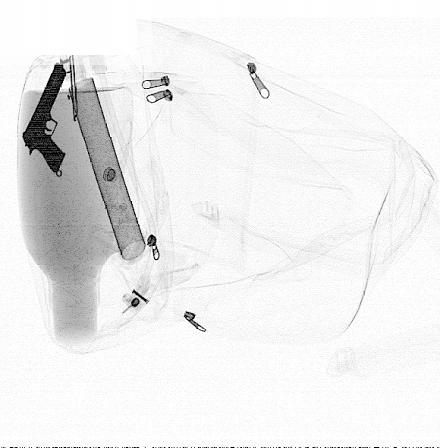Gun: (21, 62, 67, 175)
